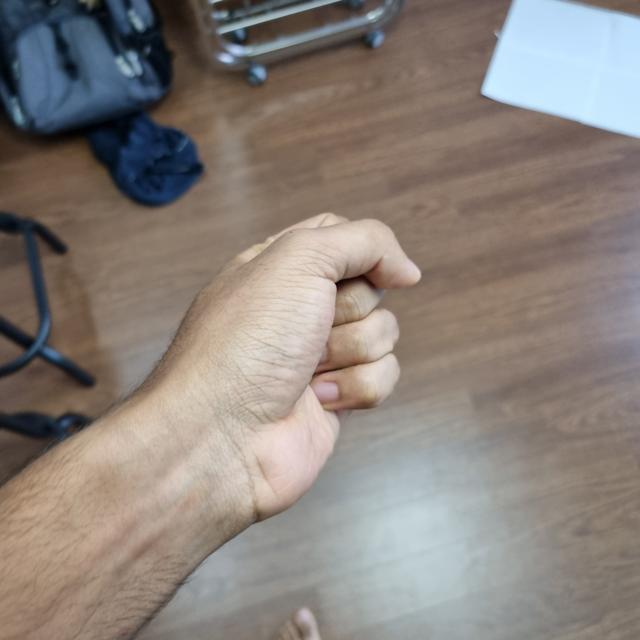Rock: (138, 218, 417, 520)
